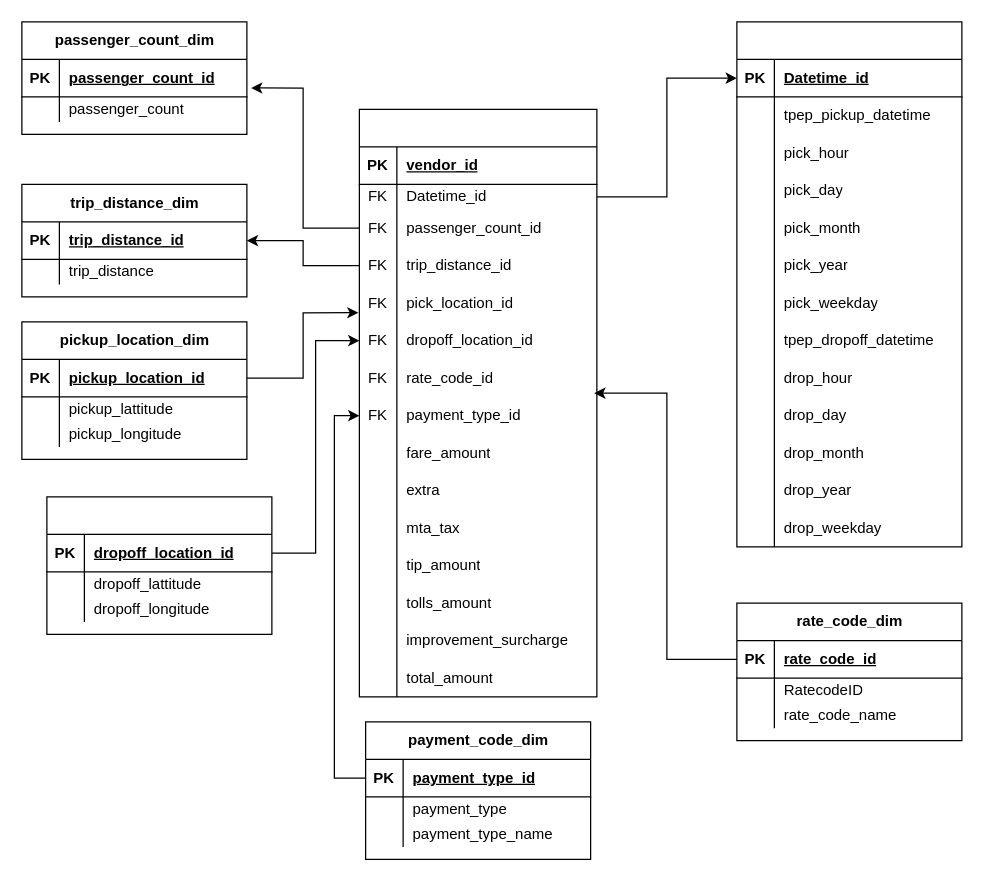
The diagram is 984 pixels wide and 881 high, and some of its shapes have lost their labels. The box of each missing label's shape, as (x1, y1, x2, y2) in pixels:
Datetime_dim: (736, 21, 962, 547)
dropoff_location_dim: (46, 496, 272, 634)
Fact_table: (358, 108, 597, 697)
